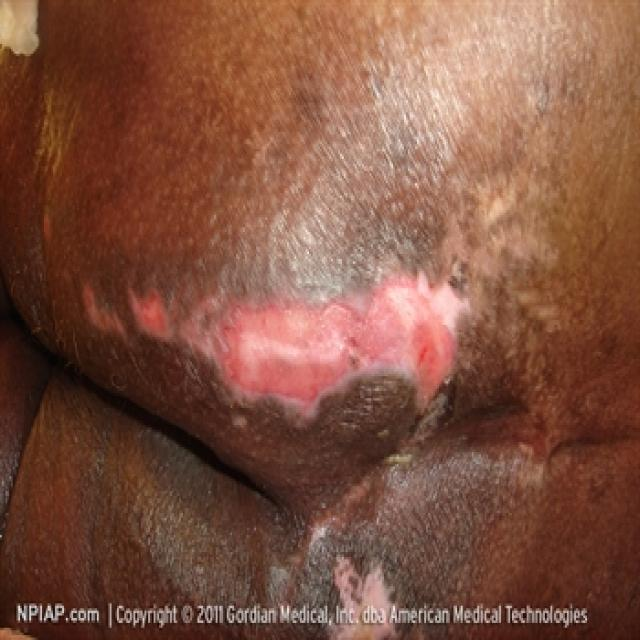stage-2: (80, 281, 465, 415)
